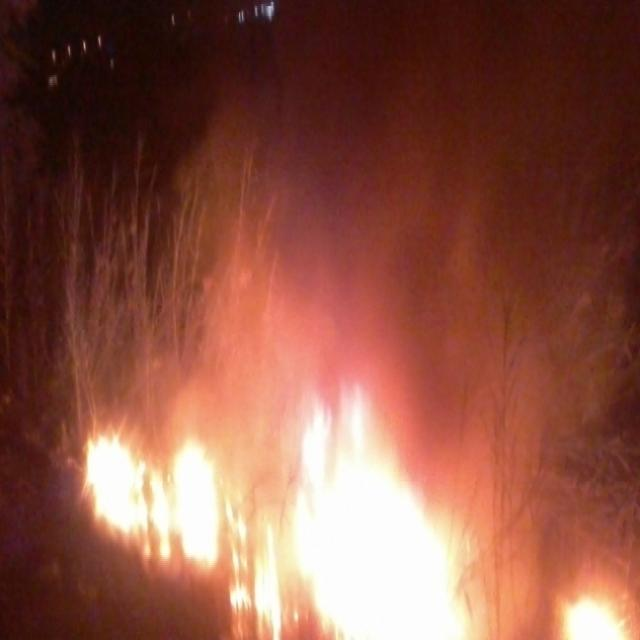Fire: (289, 393, 465, 640), (86, 431, 228, 583), (568, 585, 629, 640)
